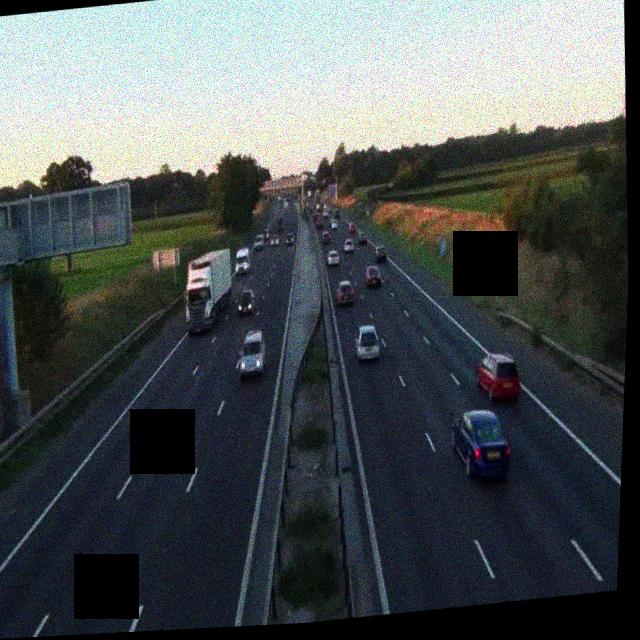car: (449, 407, 513, 484), (473, 351, 522, 405), (236, 331, 268, 379), (354, 324, 381, 362), (236, 288, 256, 318), (337, 278, 356, 305), (365, 264, 382, 290), (327, 248, 341, 268), (375, 244, 388, 262), (342, 236, 355, 254), (253, 233, 265, 249), (357, 231, 369, 245), (322, 231, 332, 245), (284, 233, 295, 245), (348, 222, 357, 234), (334, 209, 342, 221)
truck: (182, 246, 239, 332), (235, 246, 252, 276)
